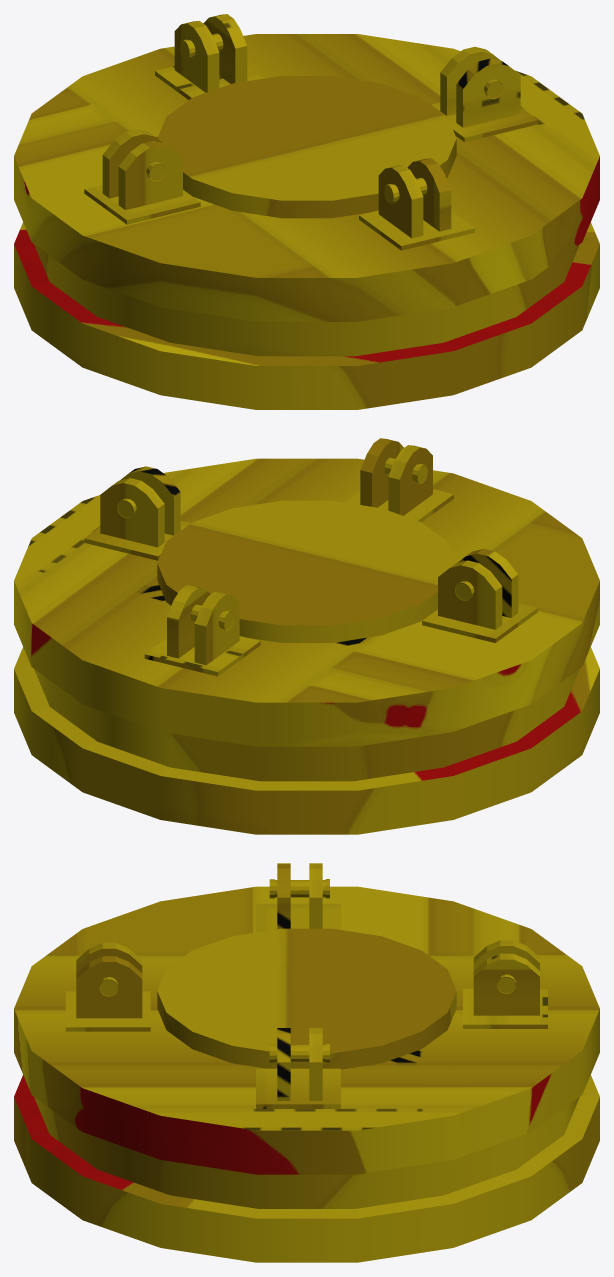
File: magnet_itog.fbx
3 views of the same model, one above another, from view 1: azimuth 30°, elevation 25°; view 2: azimuth 150°, elevation 25°; view 3: azimuth 270°, elevation 25° (orthographic).
Parts seen in each view (by area): view 1: pasted__Plane.001; view 2: pasted__Plane.001; view 3: pasted__Plane.001.
Boxes of the visible parts, bbox=[...] form: pasted__Plane.001: bbox=[14, 14, 599, 409]; pasted__Plane.001: bbox=[14, 438, 599, 834]; pasted__Plane.001: bbox=[14, 863, 599, 1262].
Bounding box in the file's own units: 371 × 137 × 377.
